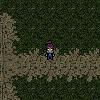Victim: (44, 39, 55, 61)
